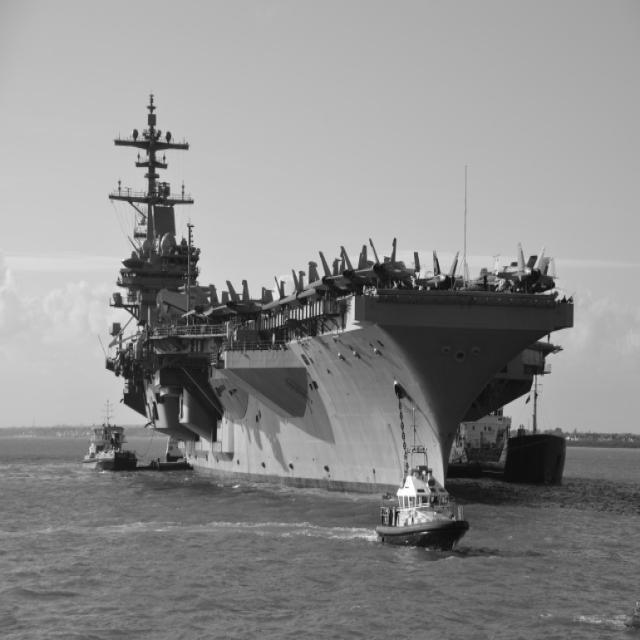Portanaves: (99, 87, 581, 515)
